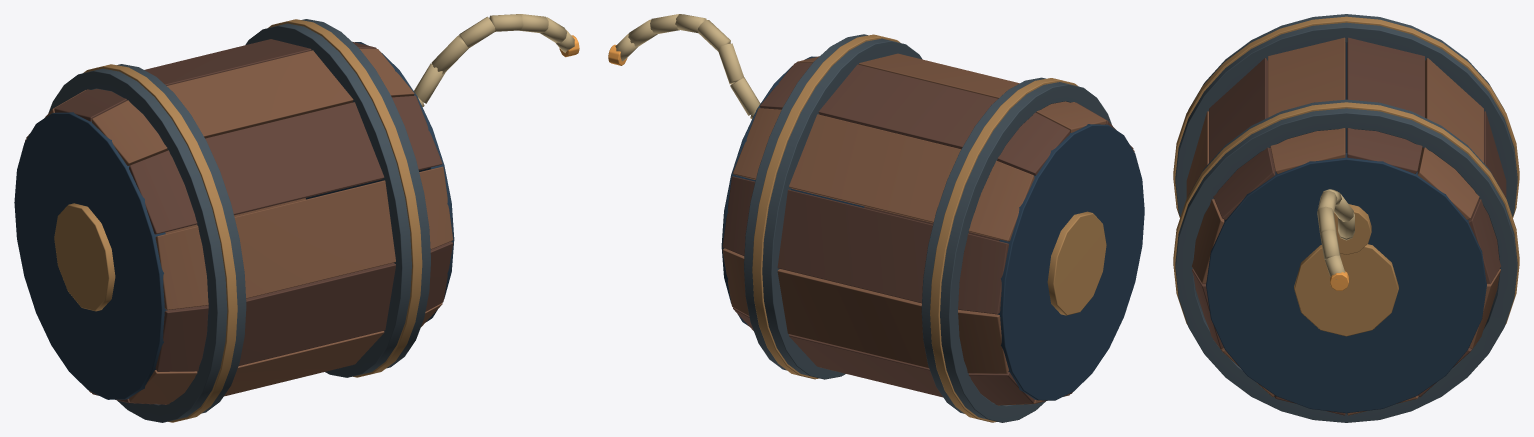
Rendered from powder_barrel.glb.
3 views of the same model, side by side, from view 1: azimuth 30°, elevation 25°; view 2: azimuth 150°, elevation 25°; view 3: azimuth 270°, elevation 25° (orthographic). The views are drawn at different scales.
Visible parts, largest first — view 1: powder_barrel__end_cap_0, powder_barrel__stave_02, powder_barrel__stave_01, powder_barrel__stave_03, powder_barrel__stave_00, powder_barrel__rolling_hoop_0, powder_barrel__rolling_hoop_1, powder_barrel__stave_04, powder_barrel__end_emblem_0, powder_barrel__stave_11, powder_barrel__brass_hoop_trim_1, powder_barrel__brass_hoop_trim_0 (+4 smaller); view 2: powder_barrel__end_cap_0, powder_barrel__stave_09, powder_barrel__stave_10, powder_barrel__stave_08, powder_barrel__stave_11, powder_barrel__rolling_hoop_0, powder_barrel__rolling_hoop_1, powder_barrel__stave_07, powder_barrel__end_emblem_0, powder_barrel__stave_00, powder_barrel__brass_hoop_trim_0, powder_barrel__brass_hoop_trim_1 (+4 smaller); view 3: powder_barrel__end_cap_1, powder_barrel__rolling_hoop_1, powder_barrel__rolling_hoop_0, powder_barrel__stave_00, powder_barrel__stave_11, powder_barrel__end_emblem_1, powder_barrel__stave_01, powder_barrel__stave_10, powder_barrel__brass_hoop_trim_1, powder_barrel__brass_hoop_trim_0, powder_barrel__stave_02, powder_barrel__stave_09 (+5 smaller).
Part boxes in pixels (left/top/right/bottom): powder_barrel__end_cap_0: left=14, top=112, right=167, bottom=399; powder_barrel__stave_02: left=155, top=166, right=453, bottom=309; powder_barrel__stave_01: left=129, top=95, right=442, bottom=234; powder_barrel__stave_03: left=155, top=241, right=453, bottom=371; powder_barrel__stave_00: left=92, top=48, right=414, bottom=165; powder_barrel__rolling_hoop_0: left=48, top=64, right=246, bottom=422; powder_barrel__rolling_hoop_1: left=245, top=19, right=430, bottom=377; powder_barrel__stave_04: left=129, top=303, right=442, bottom=404; powder_barrel__end_emblem_0: left=54, top=203, right=115, bottom=311; powder_barrel__stave_11: left=54, top=39, right=376, bottom=121; powder_barrel__brass_hoop_trim_1: left=268, top=19, right=422, bottom=377; powder_barrel__brass_hoop_trim_0: left=83, top=64, right=237, bottom=422; powder_barrel__end_cap_0: left=997, top=124, right=1144, bottom=400; powder_barrel__stave_09: left=722, top=176, right=1008, bottom=314; powder_barrel__stave_10: left=733, top=108, right=1034, bottom=241; powder_barrel__stave_08: left=722, top=248, right=1008, bottom=373; powder_barrel__stave_11: left=760, top=62, right=1069, bottom=175; powder_barrel__rolling_hoop_0: left=921, top=77, right=1111, bottom=422; powder_barrel__rolling_hoop_1: left=744, top=34, right=922, bottom=379; powder_barrel__stave_07: left=733, top=307, right=1034, bottom=404; powder_barrel__end_emblem_0: left=1047, top=211, right=1106, bottom=315; powder_barrel__stave_00: left=796, top=53, right=1106, bottom=132; powder_barrel__brass_hoop_trim_0: left=930, top=78, right=1078, bottom=422; powder_barrel__brass_hoop_trim_1: left=752, top=34, right=900, bottom=379; powder_barrel__end_cap_1: left=1206, top=153, right=1486, bottom=413; powder_barrel__rolling_hoop_1: left=1175, top=99, right=1517, bottom=422; powder_barrel__rolling_hoop_0: left=1175, top=14, right=1517, bottom=216; powder_barrel__stave_00: left=1268, top=37, right=1345, bottom=173; powder_barrel__stave_11: left=1347, top=37, right=1424, bottom=173; powder_barrel__end_emblem_1: left=1294, top=244, right=1398, bottom=336; powder_barrel__stave_01: left=1209, top=58, right=1275, bottom=219; powder_barrel__stave_10: left=1417, top=58, right=1483, bottom=219; powder_barrel__brass_hoop_trim_1: left=1173, top=102, right=1519, bottom=324; powder_barrel__brass_hoop_trim_0: left=1173, top=16, right=1519, bottom=217; powder_barrel__stave_02: left=1186, top=111, right=1224, bottom=283; powder_barrel__stave_09: left=1468, top=111, right=1506, bottom=283.
Size of the model in its own units: 0.7698 by 0.496 by 0.496.
